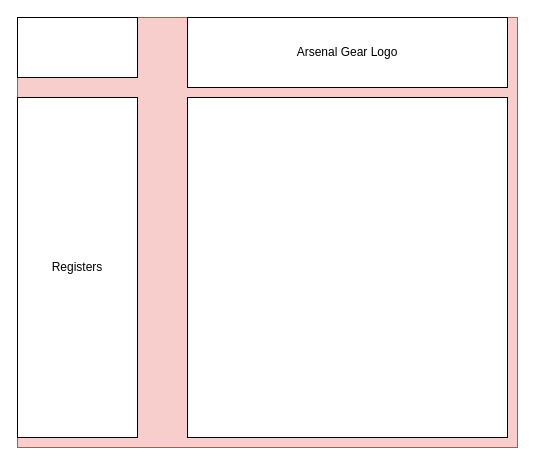
This 535x465 diagram has some shape labels left out. Each missing label, with the centre of its shape:
"Program Counter" belongs at (77,47).
"RAM" belongs at (347,267).
